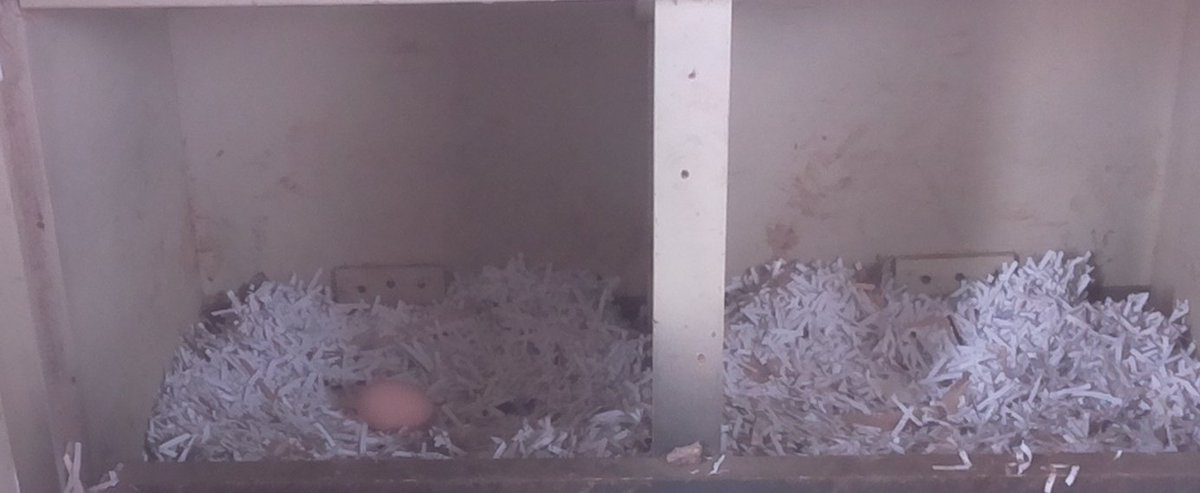egg: (349, 376, 444, 437)
